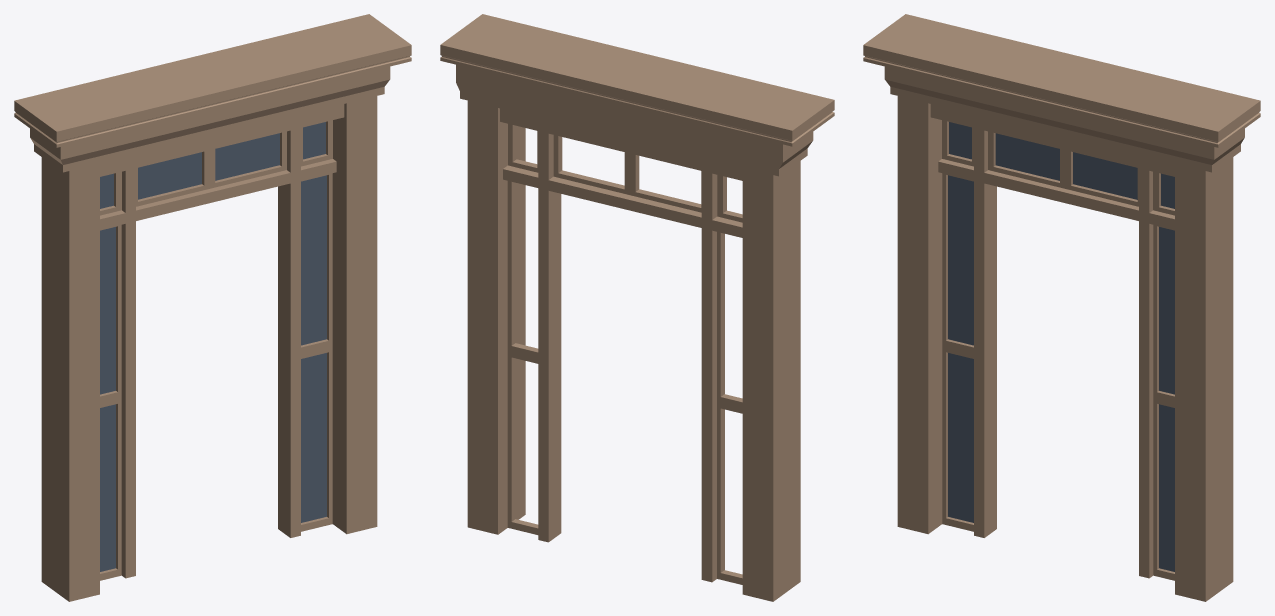
The model's file is env_block_door_frame_wooden.glb.
3 views of the same model, side by side, from view 1: azimuth 30°, elevation 25°; view 2: azimuth 150°, elevation 25°; view 3: azimuth 330°, elevation 25° (orthographic).
Parts seen in each view (by area): view 1: part_0, part_1; view 2: part_0; view 3: part_0, part_1.
Boxes of the visible parts, box(x1,y1,x2,y2) form: part_0: box(14, 14, 411, 601); part_1: box(100, 122, 326, 571); part_0: box(440, 14, 834, 601); part_0: box(863, 14, 1260, 601); part_1: box(948, 122, 1174, 571).
Size of the model in its own units: 2.3 by 3 by 0.4778.
